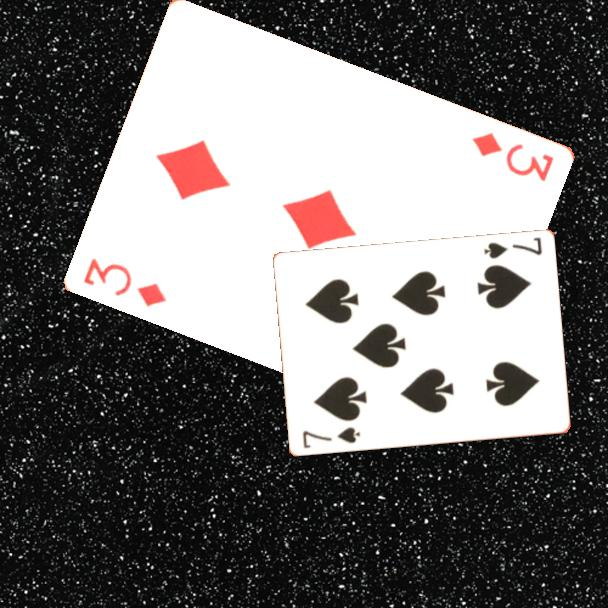d03: (80, 254, 170, 310), (469, 128, 557, 185)
s07: (480, 234, 544, 262), (299, 424, 362, 451)
